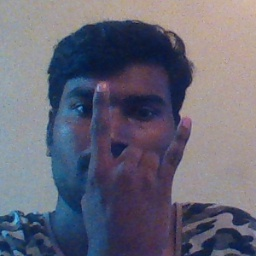V: (77, 76, 197, 256)
